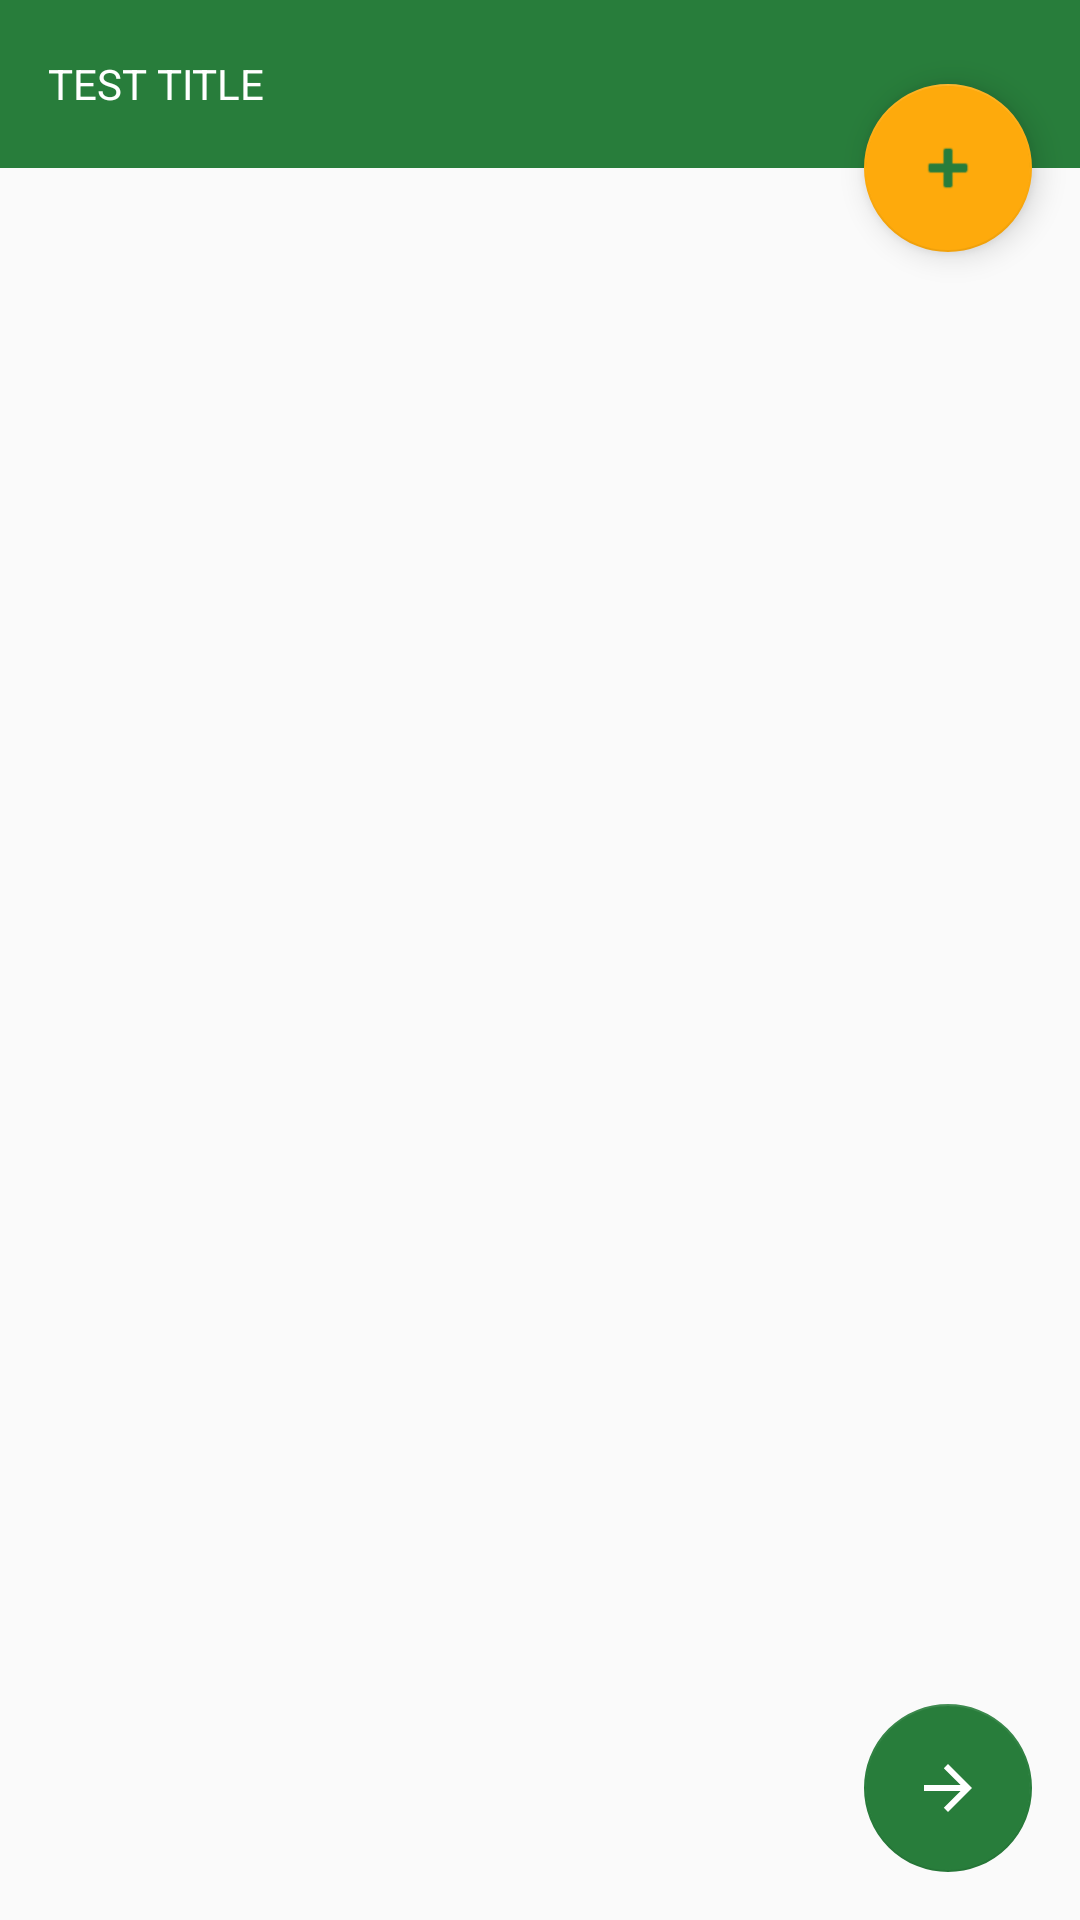

Point at icon controls on the screen. Image size 1080x1920, points as (x=x, y=y).
add: (x=948, y=168)
